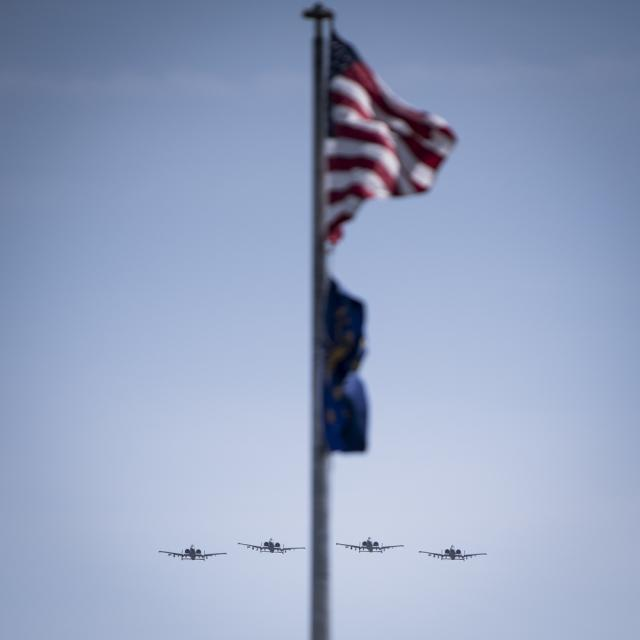MIL_Plane: (158, 544, 228, 562), (236, 537, 306, 555), (418, 544, 488, 562), (336, 536, 404, 554)
